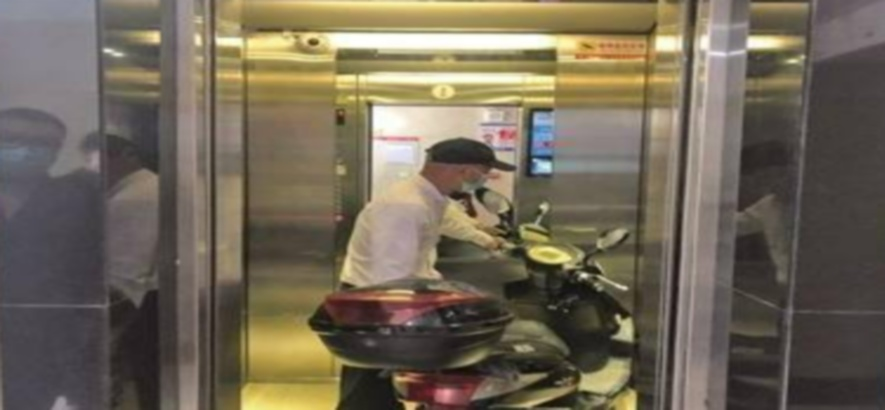ebike: (304, 187, 631, 408)
person: (338, 132, 526, 297)
